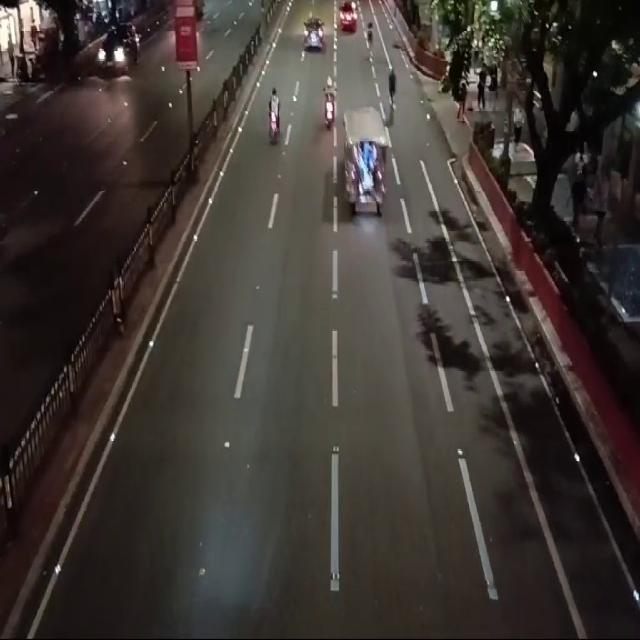car: (95, 23, 142, 78), (303, 19, 323, 53), (337, 4, 359, 32)
jeepney: (340, 106, 393, 220)
motorcycle: (266, 81, 283, 142), (322, 70, 337, 129)
